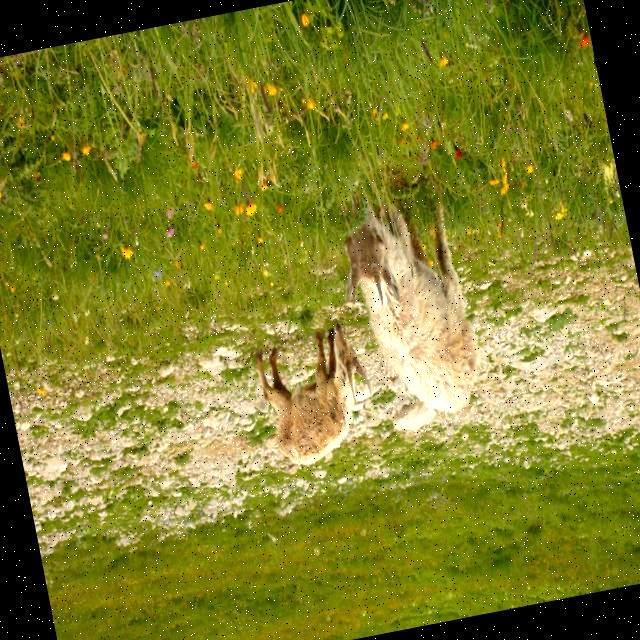sheep: (344, 203, 479, 413), (256, 327, 367, 466)
